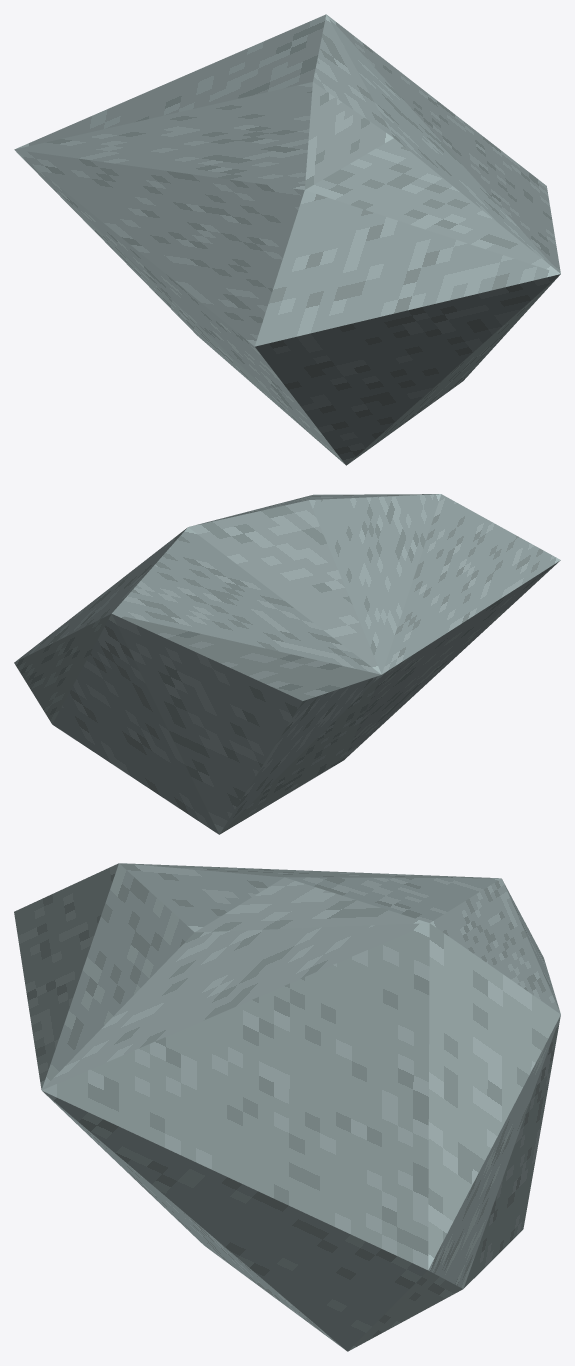
The model's file is scrap_tin.glb.
The picture shows the model from 3 angles, top to bottom: view 1: azimuth 30°, elevation 25°; view 2: azimuth 150°, elevation 25°; view 3: azimuth 270°, elevation 25°; orthographic projection. The views are drawn at different scales.
Parts seen in each view (by area): view 1: block_irregular metal; view 2: block_irregular metal; view 3: block_irregular metal.
Boxes of the visible parts, box(x1,y1,x2,y2) form: block_irregular metal: box(14, 14, 560, 465); block_irregular metal: box(14, 494, 560, 834); block_irregular metal: box(14, 863, 560, 1351).
Bounding box in the file's own units: 0.0362 × 0.0254 × 0.0329.
1 material, 1 textured.
